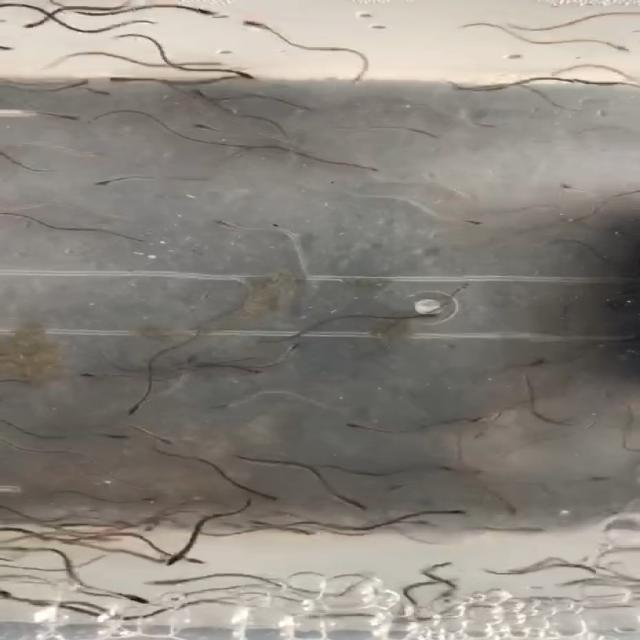active_glass_eel: (232, 14, 291, 38), (388, 300, 442, 324), (88, 165, 132, 194), (209, 209, 252, 238), (14, 108, 76, 126), (165, 3, 223, 20), (122, 593, 171, 613), (350, 157, 392, 180), (12, 591, 62, 610), (58, 79, 113, 96), (34, 535, 100, 548), (321, 497, 371, 514), (412, 125, 452, 146), (586, 36, 638, 52), (459, 409, 495, 432), (606, 74, 640, 98), (340, 421, 389, 437), (415, 554, 459, 571), (182, 86, 220, 105), (572, 75, 612, 93), (71, 373, 122, 387), (456, 214, 503, 229), (139, 432, 186, 447), (176, 356, 208, 378), (130, 394, 160, 417), (165, 555, 221, 567), (128, 491, 167, 508), (441, 79, 479, 96), (225, 65, 263, 82), (107, 72, 153, 86), (230, 361, 270, 377), (523, 361, 558, 379), (569, 562, 608, 578), (19, 17, 70, 29), (132, 573, 168, 590), (402, 611, 435, 629), (489, 528, 526, 544), (432, 508, 479, 520), (0, 544, 47, 556), (148, 550, 192, 562), (100, 430, 137, 444), (209, 399, 238, 416), (189, 117, 215, 135), (0, 439, 37, 451), (438, 462, 467, 477), (263, 492, 294, 506), (498, 506, 525, 521), (90, 526, 126, 536), (560, 180, 589, 192), (136, 522, 160, 536)
